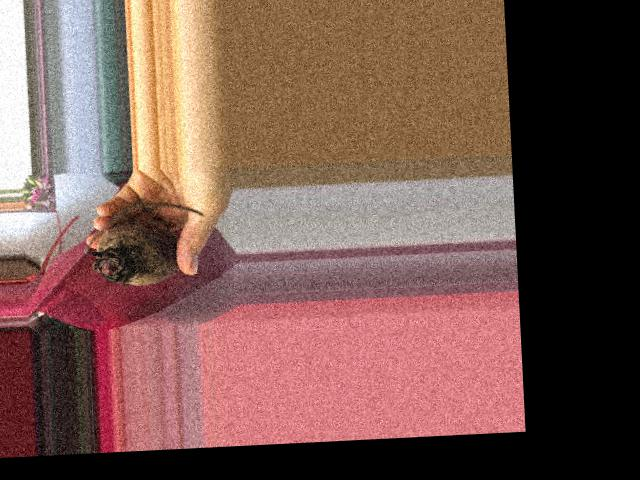beet: (81, 200, 206, 288)
